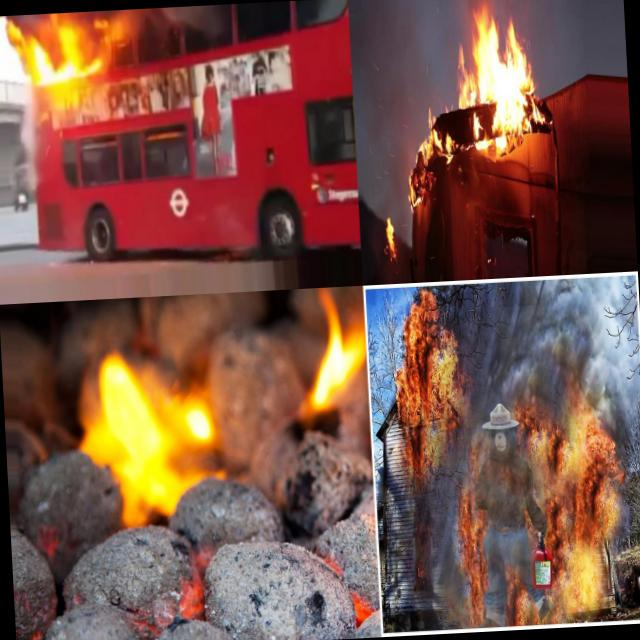fire: (79, 336, 241, 550), (538, 423, 621, 602), (452, 2, 548, 154), (279, 286, 370, 424), (394, 306, 456, 470), (15, 27, 109, 90), (416, 97, 456, 162), (382, 210, 399, 264), (404, 168, 424, 210)
smoke: (528, 274, 616, 417), (106, 4, 245, 44)
